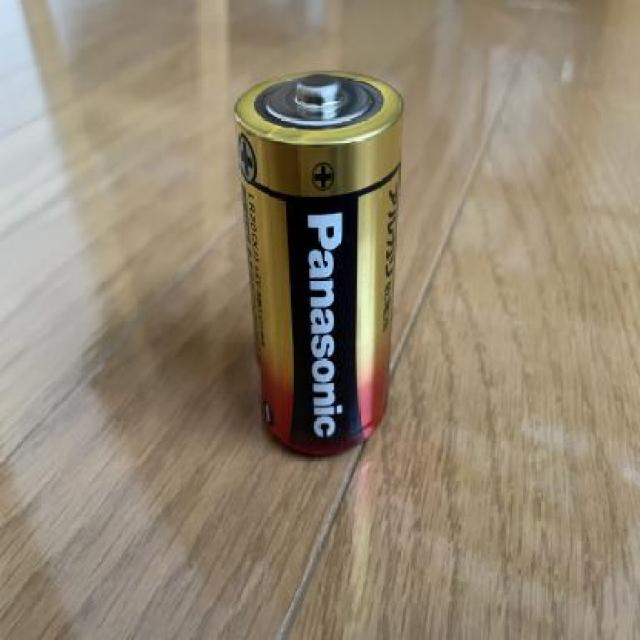hazardous waste: (231, 76, 406, 456)
